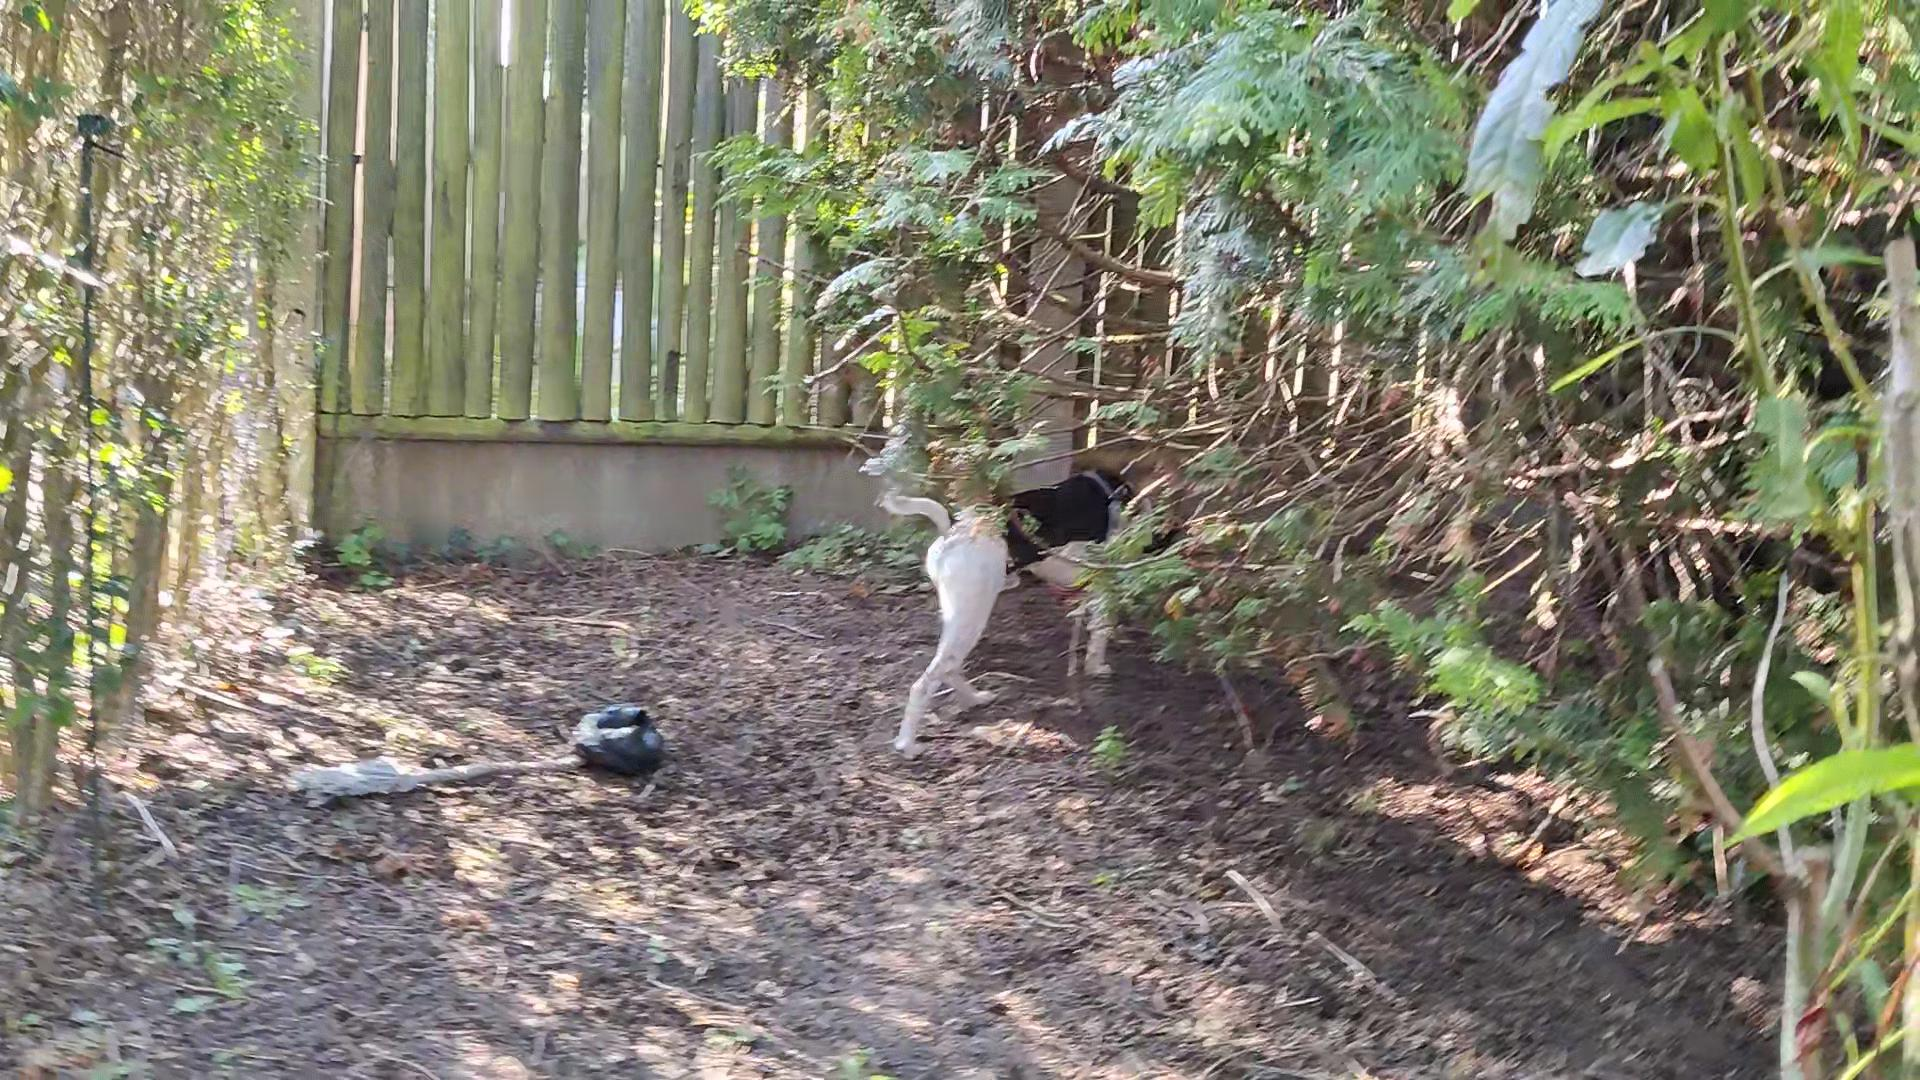Dog: (847, 450, 1201, 769)
